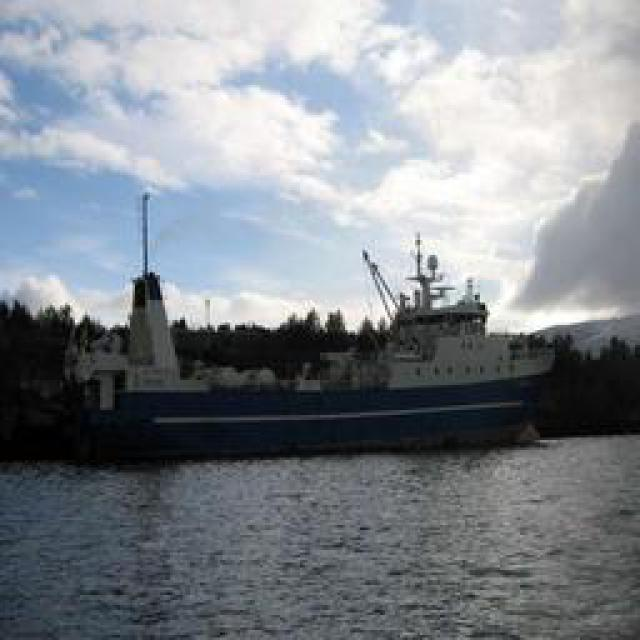Ship: (44, 203, 557, 458)
